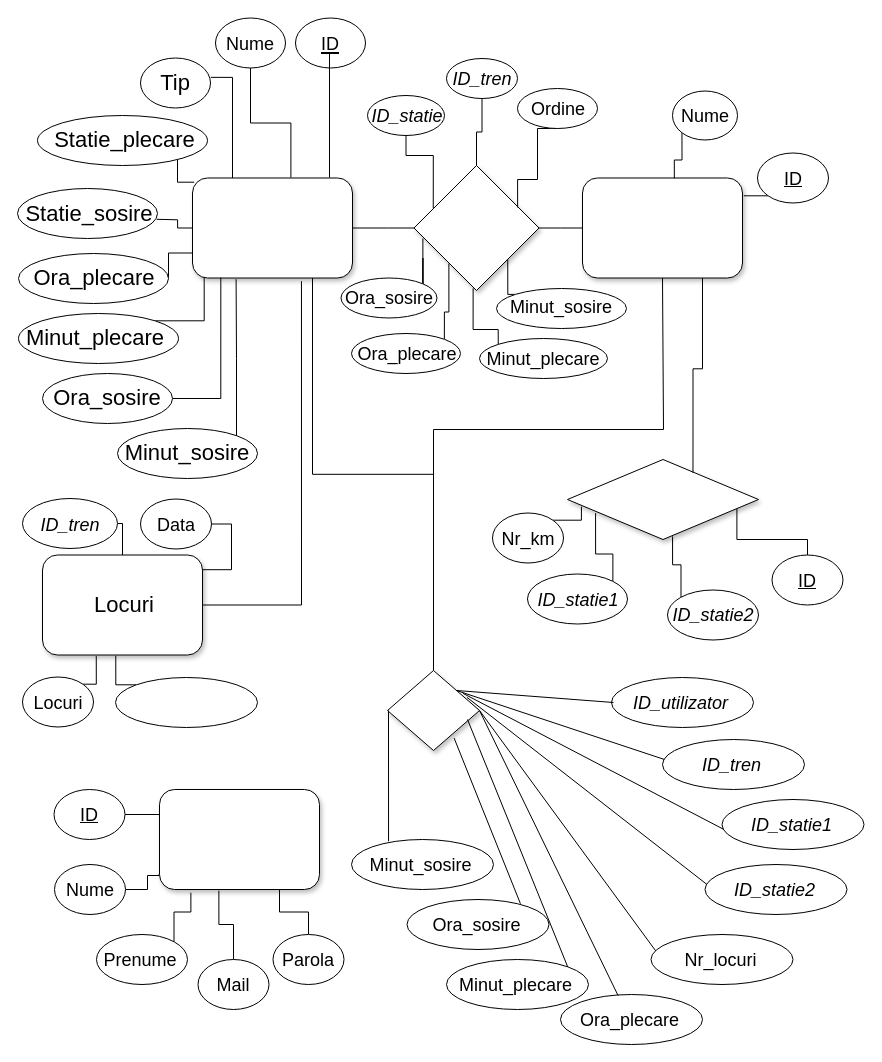
This 882x1062 diagram has some shape labels left out. The shapes that lost their labels are listed below. From the top down, each one's centre as x and y in pixels, then its label:
At [273,229]: "Trenuri".
At [477,229]: "Ruta".
At [663,229]: "Statii".
At [663,500]: "Legaturi".
At [186,702]: "Locuri_ocupate".
At [434,712]: "Bilete".
At [240,840]: "Conturi".
